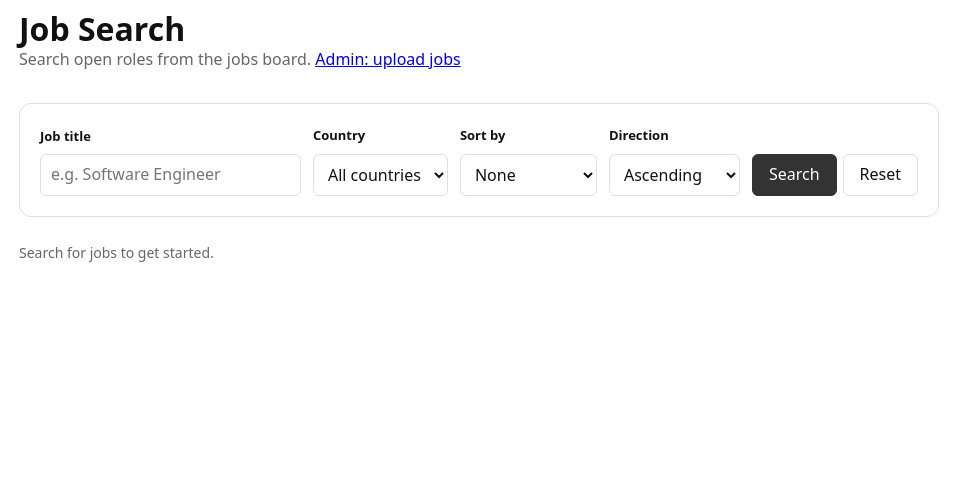
Test: App › navigates to the next page and requests it with the updated page number
Step 1. Click the button "Search" → (794, 175), box [752,154,836,196]
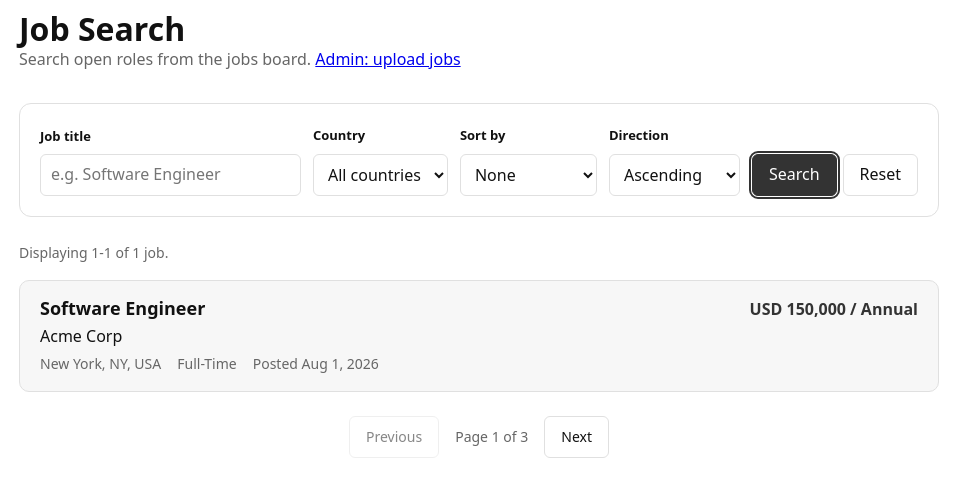
Check: the text "Page 1 of 3" is shown, box [455,425,528,449]
Check: the button "Previous" is disabled, box [349,416,439,458]
Step 2. Click the button "Next" → (577, 437), box [544,416,609,458]
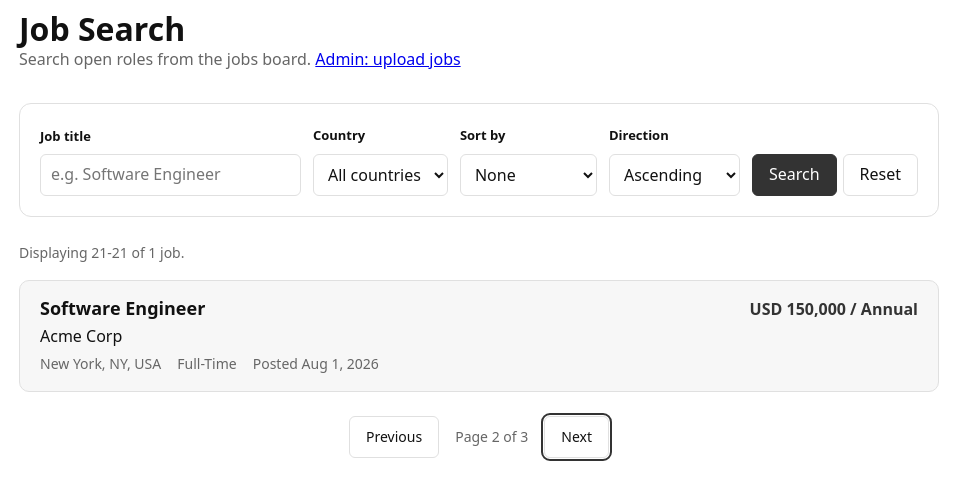
Check: the text "Page 2 of 3" is shown, box [455,425,528,449]
Check: the button "Previous" is enabled, box [349,416,439,458]
